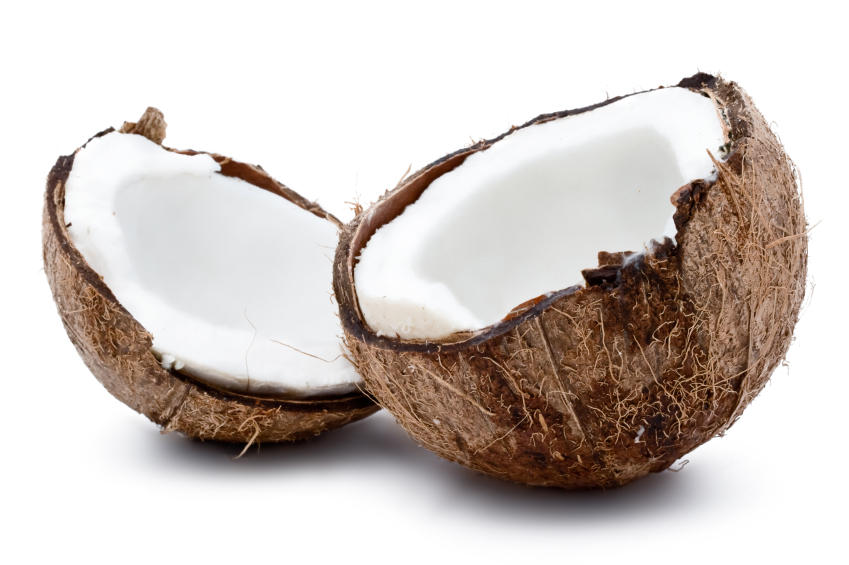coconut: (357, 90, 794, 479), (40, 120, 375, 441)
